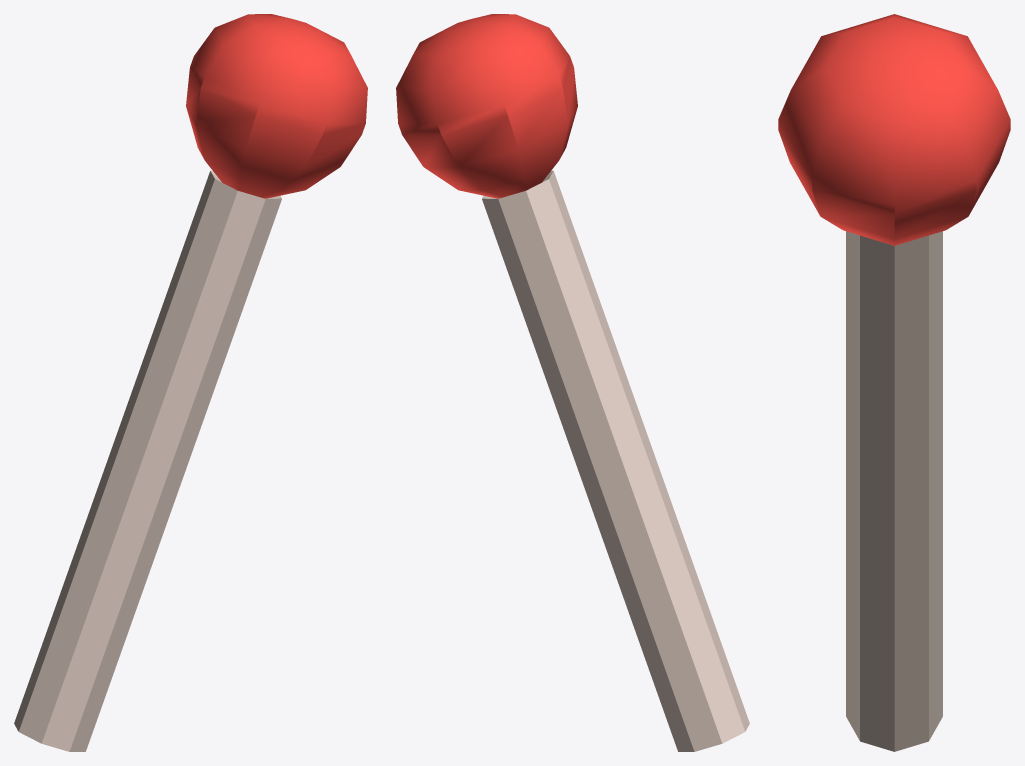
The model's file is Red_YG.fbx.
The picture shows the model from 3 angles, left to right: view 1: azimuth 30°, elevation 25°; view 2: azimuth 150°, elevation 25°; view 3: azimuth 270°, elevation 25°; orthographic projection. The views are drawn at different scales.
Parts seen in each view (by area): view 1: 柱体.002; view 2: 柱体.002; view 3: 柱体.002.
Boxes of the visible parts, x1,y1,x2,y2 form: 柱体.002: (14,14,367,751); 柱体.002: (396,14,749,751); 柱体.002: (778,14,1010,751).
Bounding box in the file's own units: 51.05 × 96.97 × 24.32.
